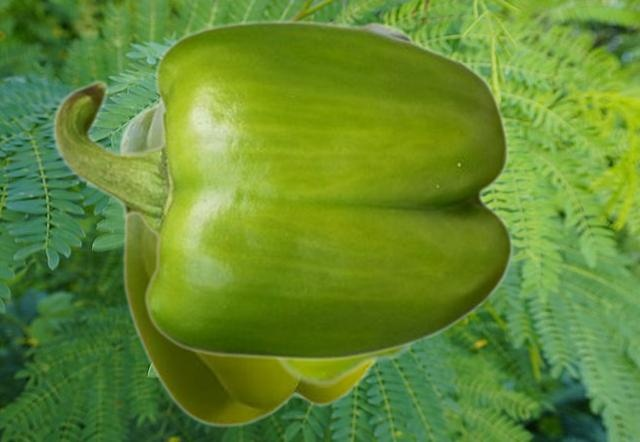bell_pepper: (52, 19, 513, 361), (118, 97, 378, 426), (270, 343, 419, 386)
